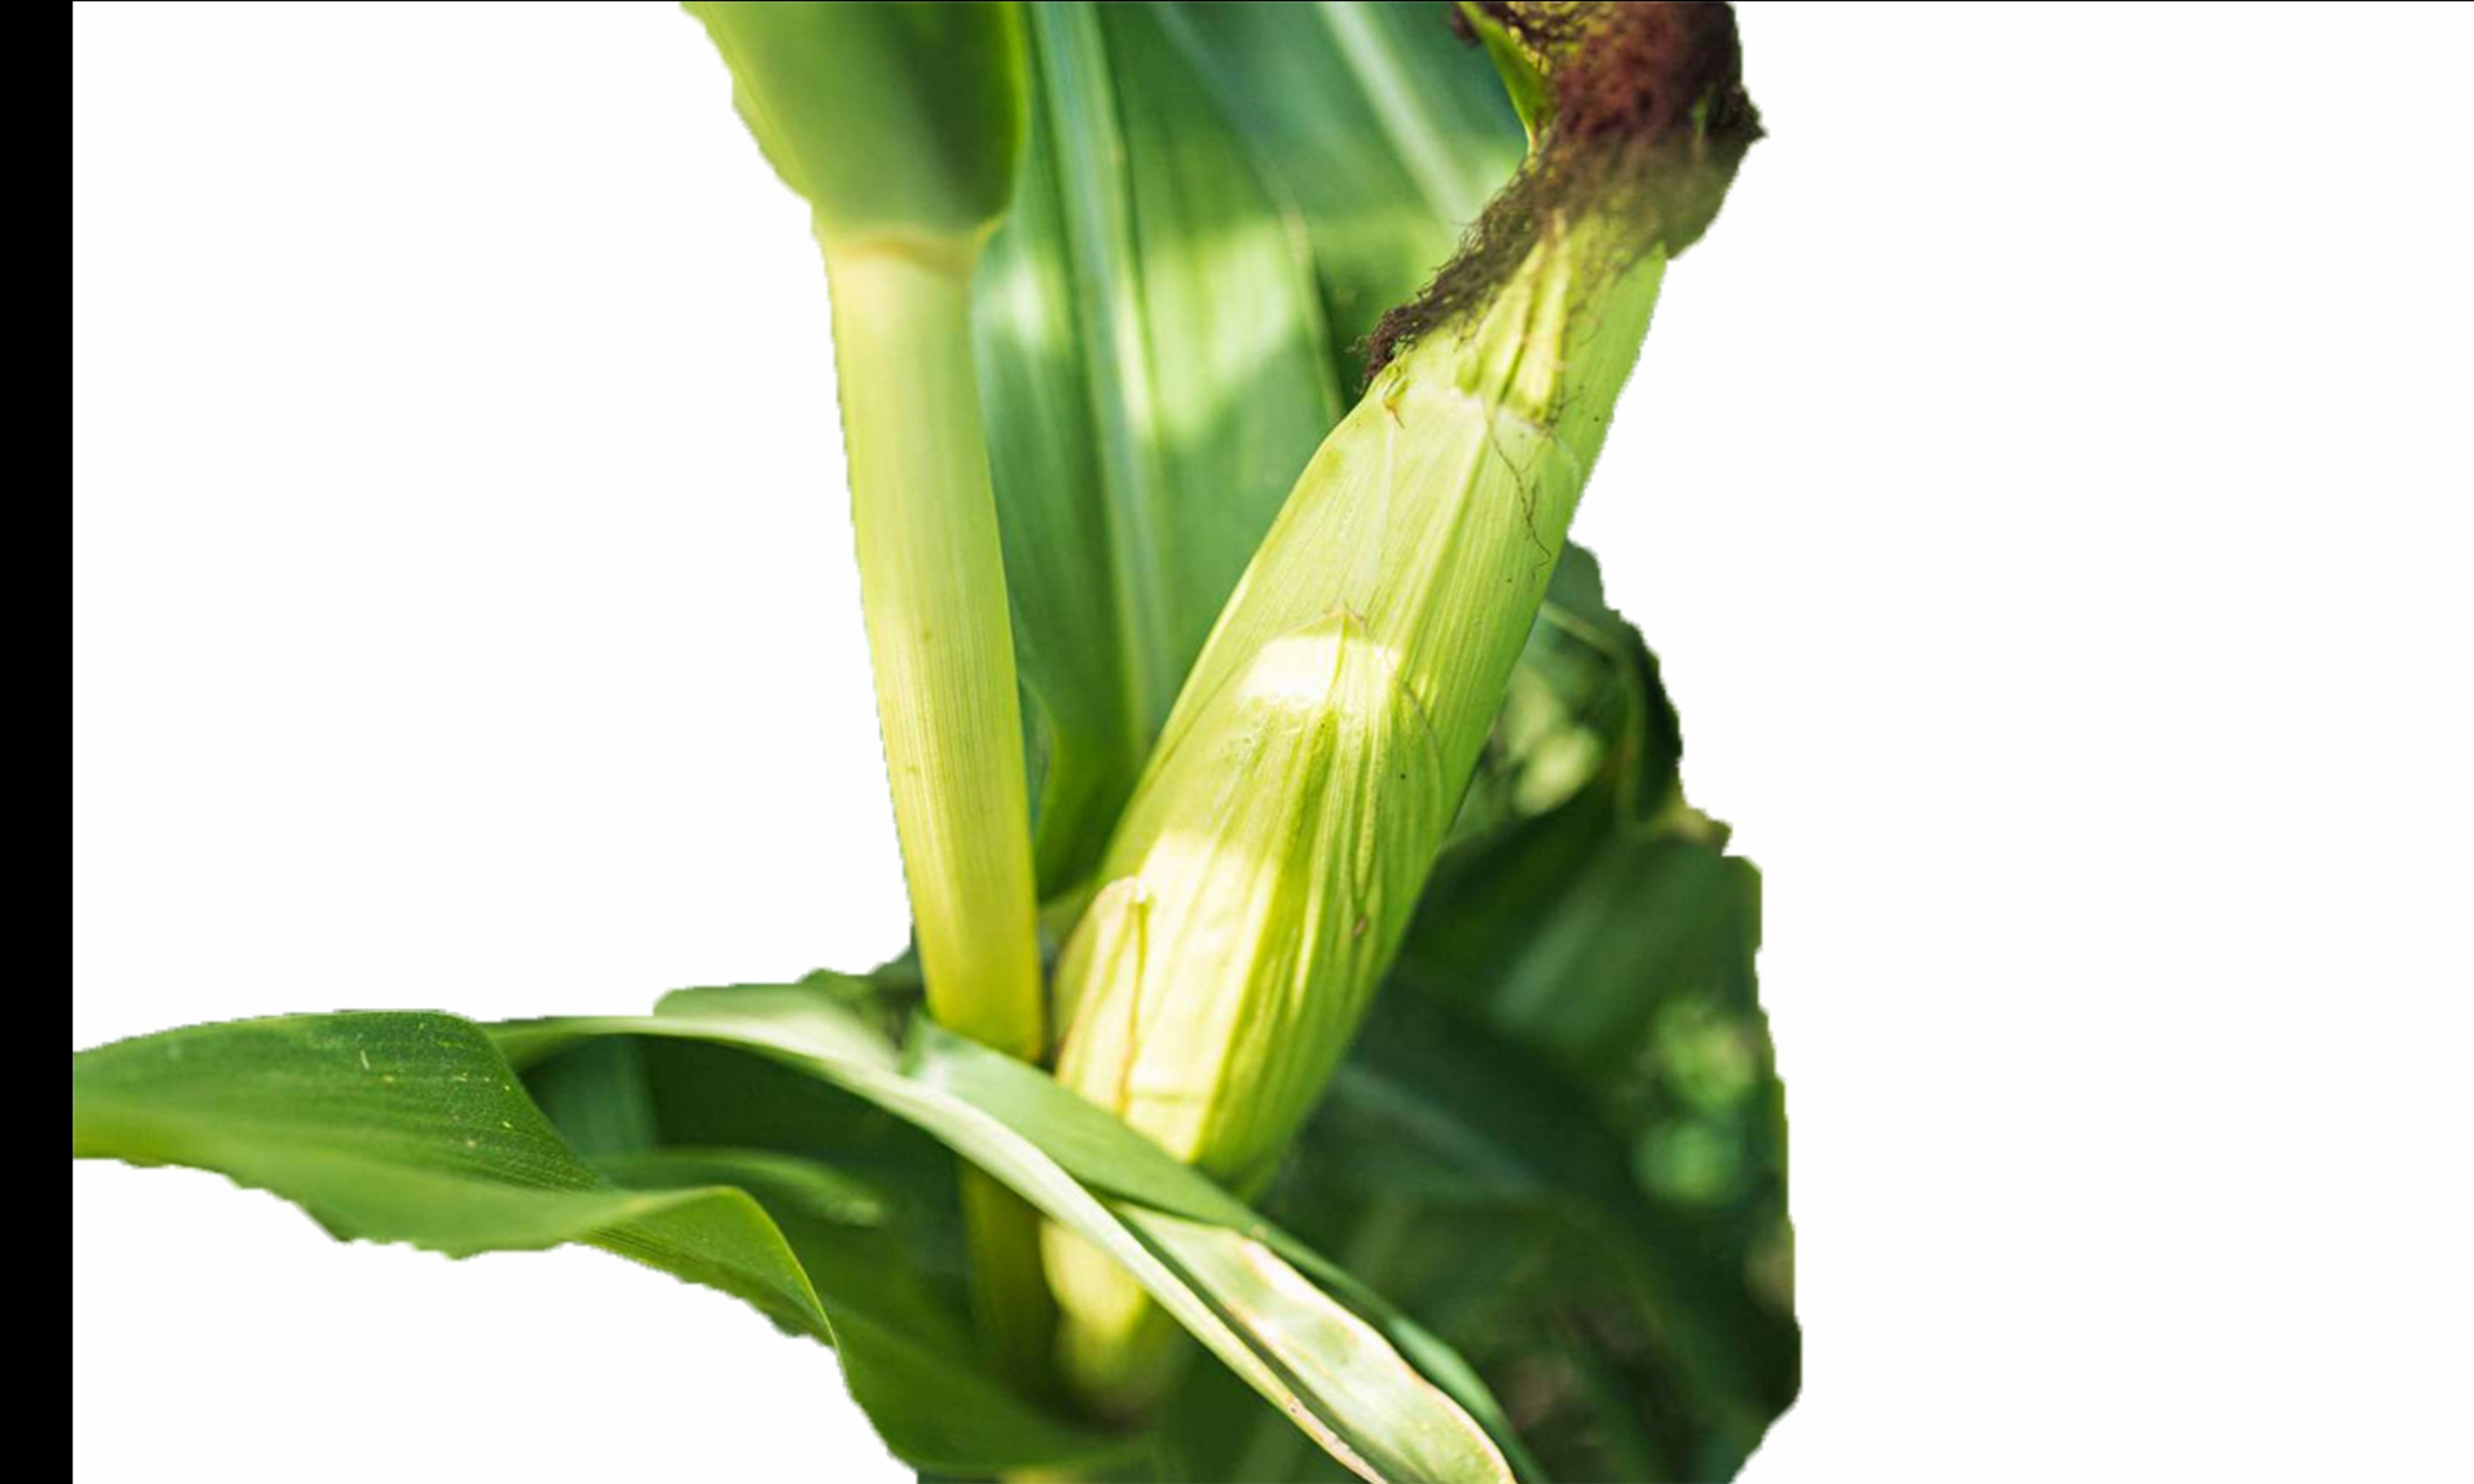corn_plant: (895, 30, 1729, 1369)
